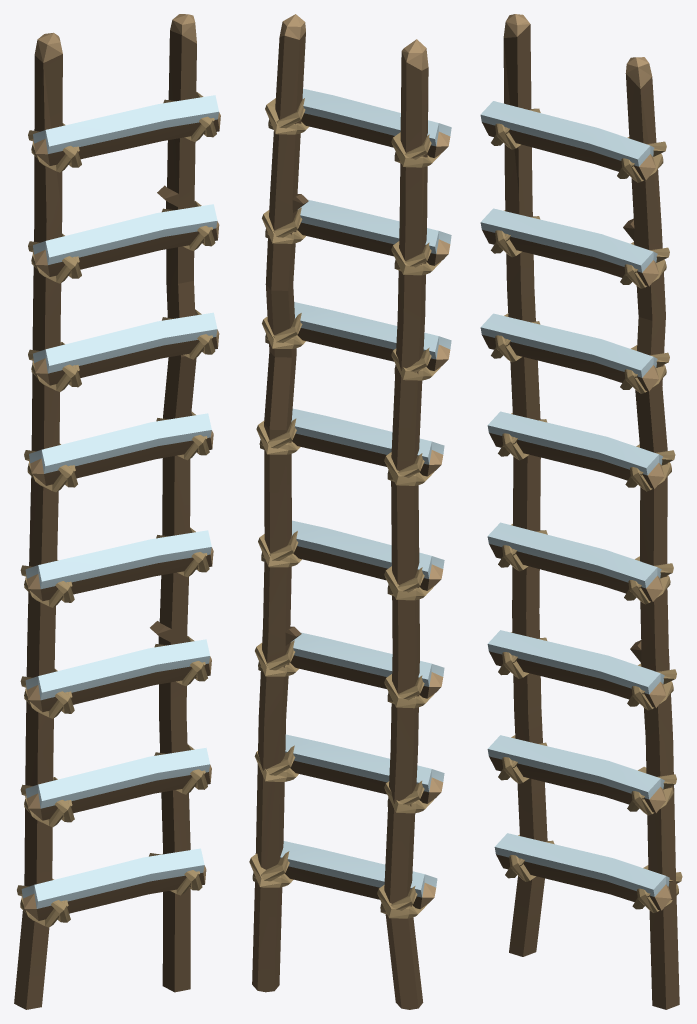
File: Escalera_Mano01.glb
3 renders of one model, left to right at view 1: azimuth 30°, elevation 25°; view 2: azimuth 150°, elevation 25°; view 3: azimuth 330°, elevation 25°, orthographic. The views are drawn at different scales.
Parts seen in each view (by area): view 1: SM_Prop_Ladder_01_Snow; view 2: SM_Prop_Ladder_01_Snow; view 3: SM_Prop_Ladder_01_Snow.
Part boxes in pixels (left/top/right/bottom): SM_Prop_Ladder_01_Snow: left=14, top=14, right=220, bottom=1009; SM_Prop_Ladder_01_Snow: left=249, top=14, right=451, bottom=1009; SM_Prop_Ladder_01_Snow: left=480, top=14, right=682, bottom=1009.
Size of the model in its own units: 0.9437 by 4.96 by 0.4695.
Materials: 1 (1 with a texture image).
